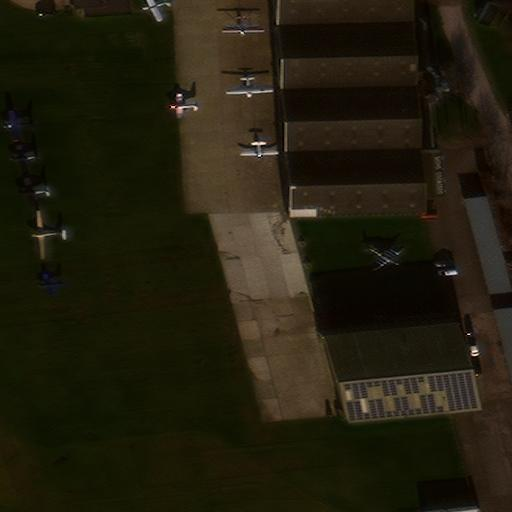Medium Civil Transport: (32, 212, 66, 257)
Military Fighter: (368, 247, 402, 269)
Small Civil Transport: (227, 77, 271, 97), (3, 112, 34, 137), (224, 16, 262, 34), (21, 180, 50, 203), (12, 146, 38, 171), (169, 95, 197, 117), (243, 142, 277, 158), (143, 0, 167, 20), (40, 274, 63, 294)
